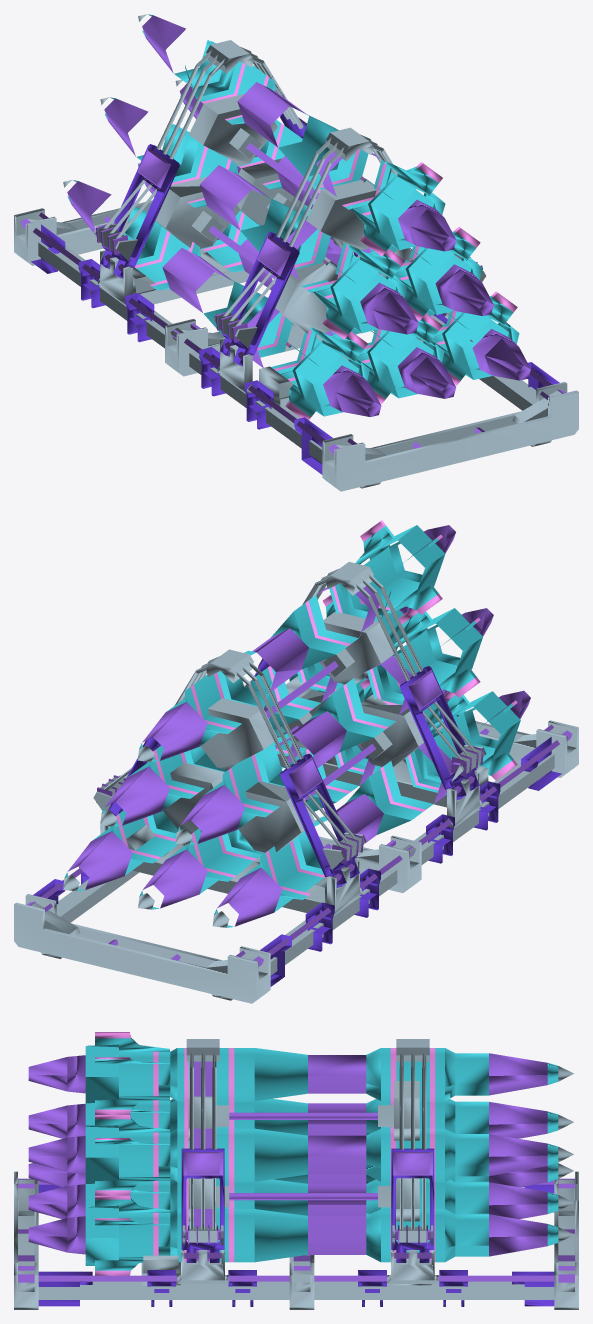
Rendered from uee_lawless_prop_missilestack_large.glb.
3 views of the same model, one above another, from view 1: azimuth 30°, elevation 25°; view 2: azimuth 150°, elevation 25°; view 3: azimuth 270°, elevation 25° (orthographic). The views are drawn at different scales.
Size of the model in its own units: 1.8 by 1.72 by 4.
